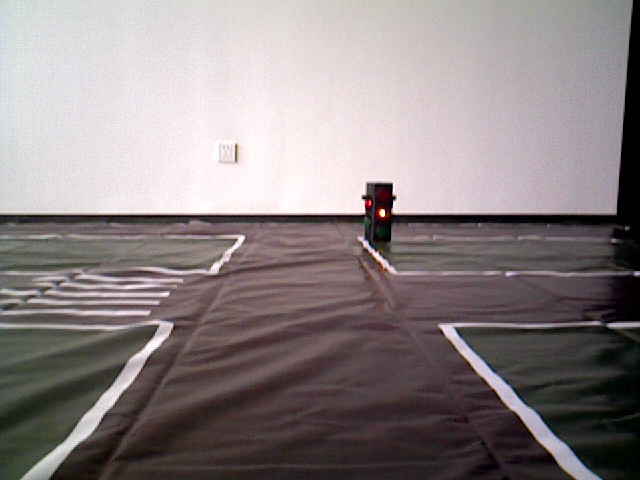yellow: (365, 177, 393, 239)
